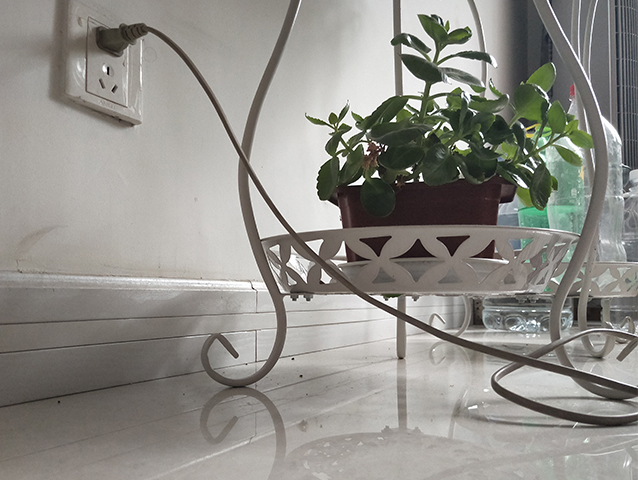wire: (86, 19, 638, 430)
